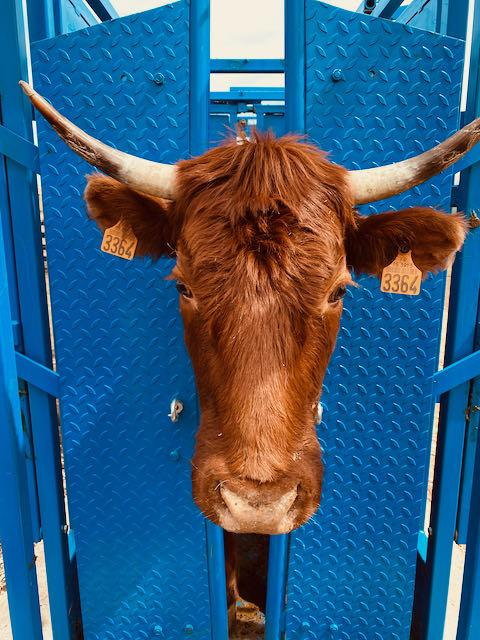muzzles: (179, 463, 326, 543)
